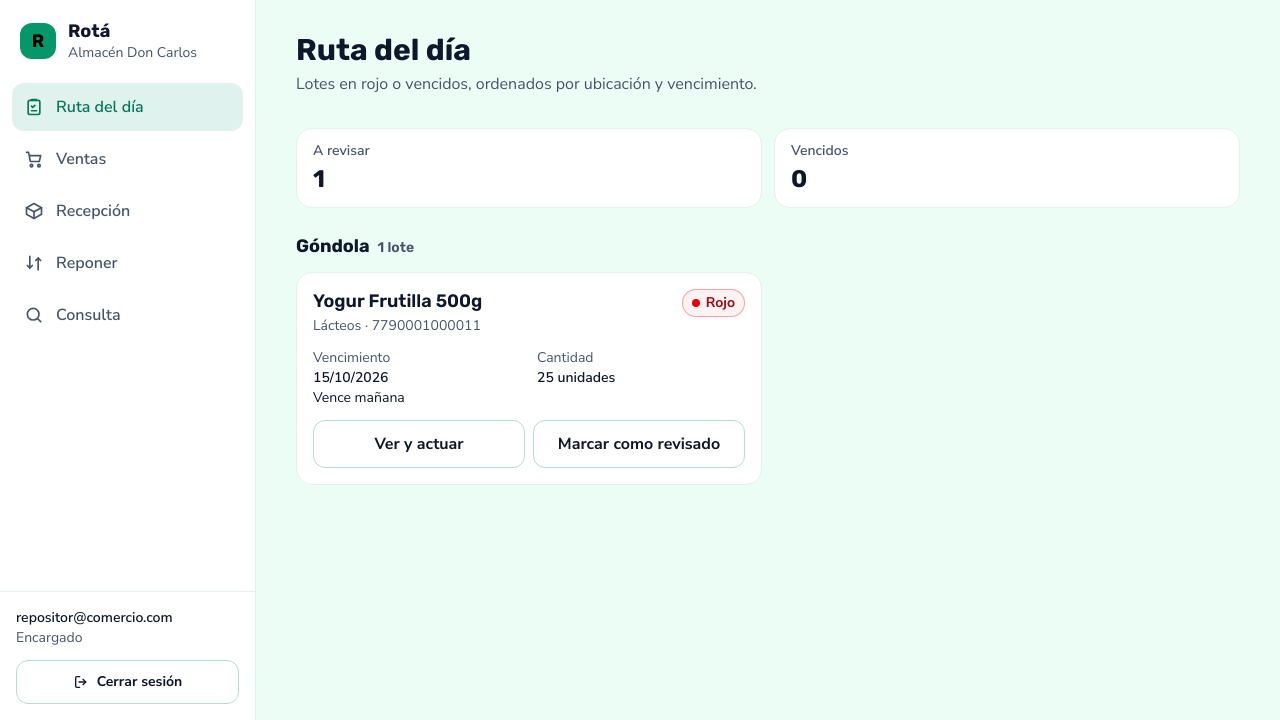
Test: Ruta del día › marca un lote como revisado y lo saca de la lista de pendientes (HU-16)
expect the text "Yogur Frutilla 500g" is shown: met, box [313,289,482,314]
Click the button "Marcar como revisado". click: (639, 444)
box: [533,420,745,468]
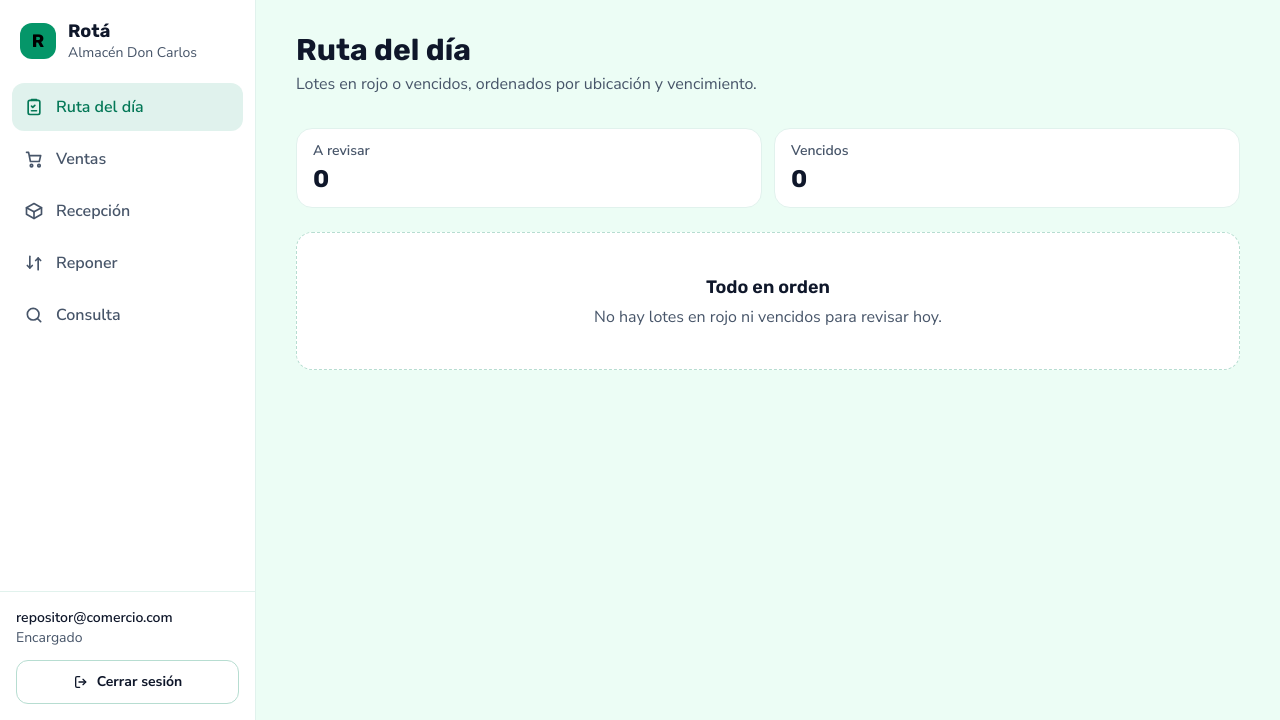
expect the text "Todo en orden" is shown: met, box [706,276,830,298]
